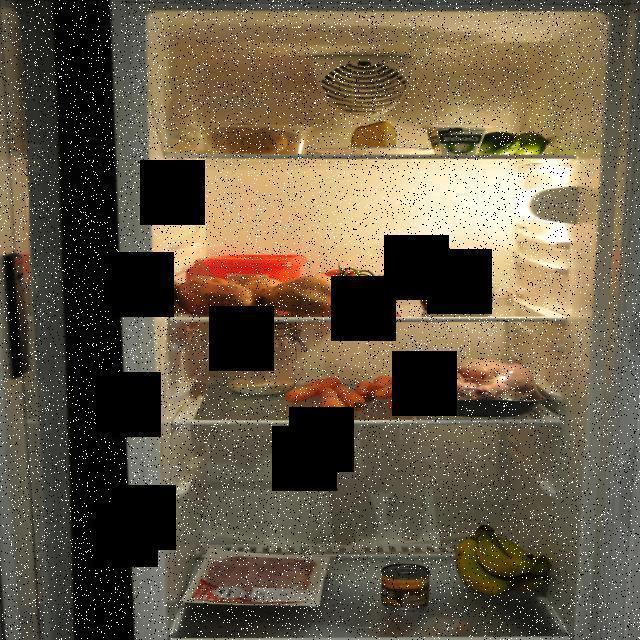banana: (445, 522, 559, 598)
blueberries: (421, 286, 494, 314)
butter: (202, 253, 312, 290)
carrot: (284, 371, 424, 418)
cheese: (346, 119, 402, 153)
chicken: (422, 353, 550, 418)
corn: (378, 562, 436, 610)
flour: (209, 323, 313, 398)
goat_cheese: (424, 125, 482, 158)
ham: (210, 554, 334, 606)
lime: (464, 130, 558, 157)
potato: (194, 110, 313, 158)
sweet_potato: (170, 267, 350, 317)
tomato: (317, 261, 407, 308)
